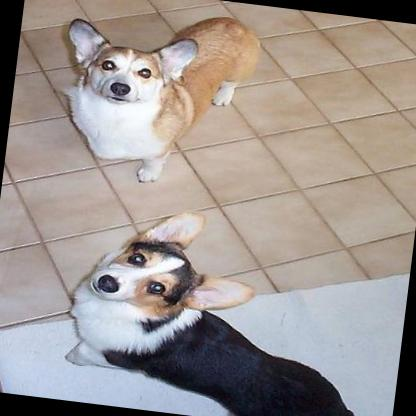Pembroke: (55, 195, 381, 416), (44, 0, 264, 195)
